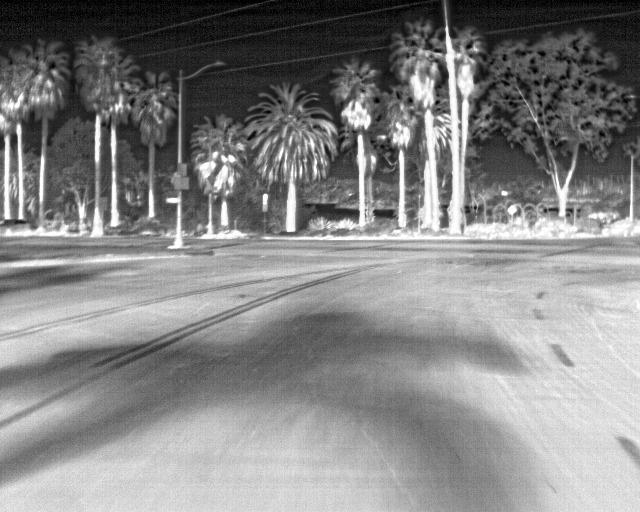car: (1, 217, 29, 236)
